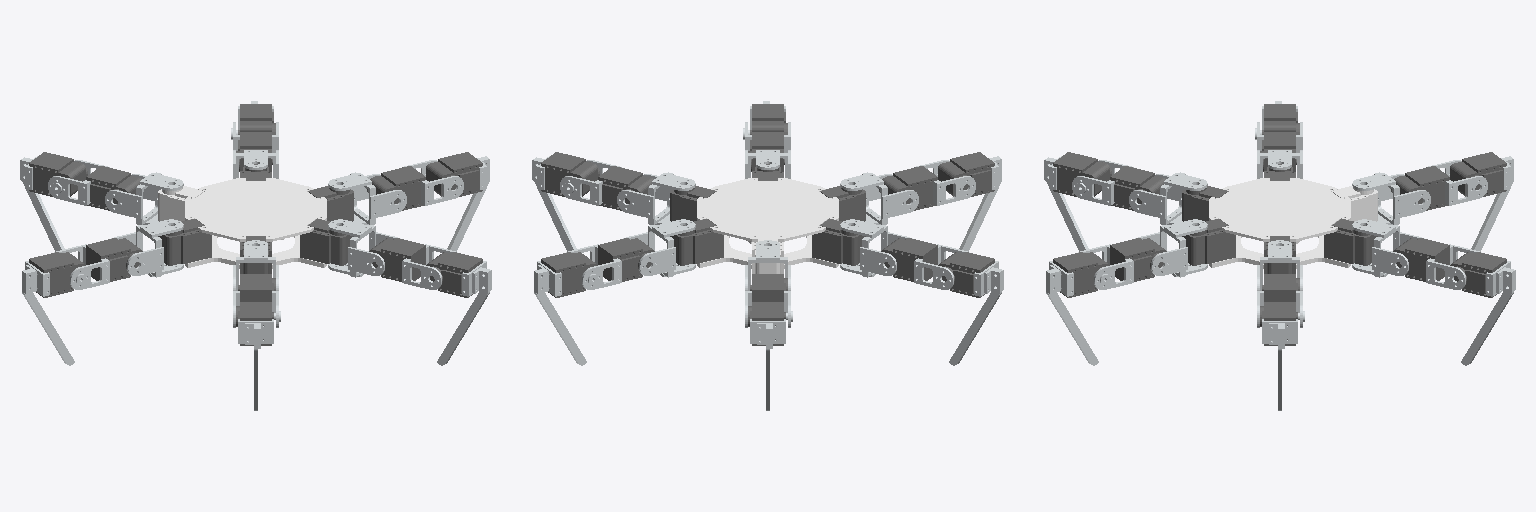
--- Facts derived from the render (not from the file) ---
Views: 3 orthographic renders of the robot side by side, from view 1: azimuth 30°, elevation 25°; view 2: azimuth 150°, elevation 25°; view 3: azimuth 270°, elevation 25°.
Robot: Hexapod — 37 links, 36 joints (18 revolute, 18 fixed); root link Hexapod_Body; default pose: every joint at zero.
Visible links, largest first — view 1: Hexapod_Body, Leg_Six_Joint_One, Leg_Two_Joint_One, Leg_Three_Joint_One, Leg_Five_Joint_One, Leg_Five_Motor_One, Leg_Three_Motor_One, Leg_Three_Foot, Leg_Five_Foot, Leg_Two_Motor_Three, Leg_Six_Motor_Three, Leg_Three_Motor_Two (+21 smaller); view 2: Hexapod_Body, Leg_Two_Joint_One, Leg_Four_Joint_One, Leg_One_Joint_One, Leg_Five_Joint_One, Leg_One_Motor_One, Leg_Five_Motor_One, Leg_Five_Foot, Leg_One_Foot, Leg_Four_Motor_Three, Leg_Two_Motor_Three, Leg_Five_Motor_Two (+21 smaller); view 3: Hexapod_Body, Leg_Four_Joint_One, Leg_Six_Joint_One, Leg_One_Joint_One, Leg_Three_Joint_One, Leg_Three_Motor_One, Leg_One_Motor_One, Leg_One_Foot, Leg_Three_Foot, Leg_Six_Motor_Three, Leg_Four_Motor_Three, Leg_One_Motor_Two (+21 smaller).
Link boxes in pixels (box(x1,y1,x2,y2)): Hexapod_Body: box(185, 178, 326, 268); Leg_Six_Joint_One: box(105, 172, 183, 224); Leg_Two_Joint_One: box(328, 172, 406, 224); Leg_Three_Joint_One: box(328, 219, 400, 277); Leg_Five_Joint_One: box(111, 219, 183, 277); Leg_Five_Motor_One: box(158, 219, 211, 265); Leg_Three_Motor_One: box(300, 219, 353, 265); Leg_Three_Foot: box(437, 261, 491, 365); Leg_Five_Foot: box(22, 261, 74, 365); Leg_Two_Motor_Three: box(426, 152, 482, 196); Leg_Six_Motor_Three: box(29, 152, 87, 196); Leg_Three_Motor_Two: box(369, 238, 425, 281); Hexapod_Body: box(697, 178, 838, 268); Leg_Two_Joint_One: box(617, 172, 695, 224); Leg_Four_Joint_One: box(840, 172, 918, 224); Leg_One_Joint_One: box(623, 219, 695, 277); Leg_Five_Joint_One: box(840, 219, 912, 277); Leg_One_Motor_One: box(670, 219, 723, 265); Leg_Five_Motor_One: box(812, 219, 865, 265); Leg_Five_Foot: box(949, 261, 1003, 365); Leg_One_Foot: box(534, 261, 586, 365); Leg_Four_Motor_Three: box(938, 152, 994, 196); Leg_Two_Motor_Three: box(541, 152, 599, 196); Leg_Five_Motor_Two: box(881, 238, 937, 281); Hexapod_Body: box(1209, 178, 1350, 268); Leg_Four_Joint_One: box(1129, 172, 1207, 224); Leg_Six_Joint_One: box(1352, 172, 1430, 224); Leg_One_Joint_One: box(1352, 219, 1424, 277); Leg_Three_Joint_One: box(1135, 219, 1207, 277); Leg_Three_Motor_One: box(1182, 219, 1235, 265); Leg_One_Motor_One: box(1324, 219, 1377, 265); Leg_One_Foot: box(1461, 261, 1515, 365); Leg_Three_Foot: box(1046, 261, 1098, 365); Leg_Six_Motor_Three: box(1450, 152, 1506, 196); Leg_Four_Motor_Three: box(1053, 152, 1111, 196); Leg_One_Motor_Two: box(1393, 238, 1449, 281).
Bounding box of the posed robot: 0.5546 × 0.4858 × 0.131 m (x, y, z).
37 mesh visuals loaded from 37 distinct referenced files (37 binary STL).

robot.urdf — Hexapod:
<?xml version="1.0" encoding="utf-8"?>
<!-- This URDF was automatically created by SolidWorks to URDF Exporter! Originally created by Stephen Brawner ([email redacted]) 
     Commit Version: 1.6.0-4-g7f85cfe  Build Version: 1.6.7995.38578
     For more information, please see http://wiki.ros.org/sw_urdf_exporter -->
<robot
  name="Hexapod">
  <link
    name="Hexapod_Body">
    <inertial>
      <origin
        xyz="0.000467300641731394 0.000480640804340723 -0.0222927088725361"
        rpy="0 0 0" />
      <mass
        value="0.252991709249718" />
      <inertia
        ixx="0.0003353228755392"
        ixy="-3.5624522231311E-06"
        ixz="9.13929498933835E-22"
        iyy="0.000331209310039199"
        iyz="-2.06880232664108E-21"
        izz="0.000662153479951832" />
    </inertial>
    <visual>
      <origin
        xyz="0 0 0"
        rpy="0 0 0" />
      <geometry>
        <mesh
          filename="package://Hexapod/meshes/Hexapod_Body.STL" />
      </geometry>
      <material
        name="a">
        <color
          rgba="1 1 1 1" />
      </material>
    </visual>
    <collision>
      <origin
        xyz="0 0 0"
        rpy="0 0 0" />
      <geometry>
        <mesh
          filename="package://Hexapod/meshes/Hexapod_Body.STL" />
      </geometry>
    </collision>
  </link>
  <link
    name="Leg_One_Motor_One">
    <inertial>
      <origin
        xyz="0.000584019854882684 0.0171270760121718 8.74251500962431E-06"
        rpy="0 0 0" />
      <mass
        value="0.0507410999571037" />
      <inertia
        ixx="8.72453812867062E-06"
        ixy="2.91404732674268E-07"
        ixz="4.76442069400232E-09"
        iyy="1.36174955983004E-05"
        iyz="4.99976360499878E-10"
        izz="1.50547493857864E-05" />
    </inertial>
    <visual>
      <origin
        xyz="0 0 0"
        rpy="0 0 0" />
      <geometry>
        <mesh
          filename="package://Hexapod/meshes/Leg_One_Motor_One.STL" />
      </geometry>
      <material
        name="b">
        <color
          rgba="0.501960784313725 0.501960784313725 0.501960784313725 1" />
      </material>
    </visual>
    <collision>
      <origin
        xyz="0 0 0"
        rpy="0 0 0" />
      <geometry>
        <mesh
          filename="package://Hexapod/meshes/Leg_One_Motor_One.STL" />
      </geometry>
    </collision>
  </link>
  <joint
    name="Body_Motor_One"
    type="fixed">
    <origin
      xyz="0.0430999999999997 0.0748245948869756 -0.035"
      rpy="1.5707963267949 0 -2.09439510239319" />
    <parent
      link="Hexapod_Body" />
    <child
      link="Leg_One_Motor_One" />
    <axis
      xyz="0 0 0" />
  </joint>
  <link
    name="Leg_One_Joint_One">
    <inertial>
      <origin
        xyz="-0.021 -0.0275000000000001 -2.77555756156289E-17"
        rpy="0 0 0" />
      <mass
        value="0.0389043786122597" />
      <inertia
        ixx="7.22067461734331E-06"
        ixy="-8.39372041984293E-23"
        ixz="-7.02883961008259E-22"
        iyy="6.08873929472342E-06"
        iyz="-1.69032215963396E-22"
        izz="7.22067461734331E-06" />
    </inertial>
    <visual>
      <origin
        xyz="0 0 0"
        rpy="0 0 0" />
      <geometry>
        <mesh
          filename="package://Hexapod/meshes/Leg_One_Joint_One.STL" />
      </geometry>
      <material
        name="c">
        <color
          rgba="0.898039215686275 0.917647058823529 0.929411764705882 1" />
      </material>
    </visual>
    <collision>
      <origin
        xyz="0 0 0"
        rpy="0 0 0" />
      <geometry>
        <mesh
          filename="package://Hexapod/meshes/Leg_One_Joint_One.STL" />
      </geometry>
    </collision>
  </link>
  <joint
    name="Motor_One_Joint_One"
    type="revolute">
    <origin
      xyz="-0.0135 0.037 0"
      rpy="3.14159265358979 0 1.5707963267949" />
    <parent
      link="Leg_One_Motor_One" />
    <child
      link="Leg_One_Joint_One" />
    <axis
      xyz="1 0 0" />
    <limit
      lower="-1.5"
      upper="1.5"
      effort="1.5"
      velocity="6" />
  </joint>
  <link
    name="Leg_One_Motor_Two">
    <inertial>
      <origin
        xyz="0.0140840198548827 -0.0198729239878282 8.74251500962431E-06"
        rpy="0 0 0" />
      <mass
        value="0.0507410999571037" />
      <inertia
        ixx="8.7245381286706E-06"
        ixy="2.91404732674267E-07"
        ixz="4.76442069400002E-09"
        iyy="1.36174955983004E-05"
        iyz="4.99976360499654E-10"
        izz="1.50547493857864E-05" />
    </inertial>
    <visual>
      <origin
        xyz="0 0 0"
        rpy="0 0 0" />
      <geometry>
        <mesh
          filename="package://Hexapod/meshes/Leg_One_Motor_Two.STL" />
      </geometry>
      <material
        name="d">
        <color
          rgba="0.501960784313725 0.501960784313725 0.501960784313725 1" />
      </material>
    </visual>
    <collision>
      <origin
        xyz="0 0 0"
        rpy="0 0 0" />
      <geometry>
        <mesh
          filename="package://Hexapod/meshes/Leg_One_Motor_Two.STL" />
      </geometry>
    </collision>
  </link>
  <joint
    name="Joint_One_Motor_One"
    type="revolute">
    <origin
      xyz="-0.021 -0.055 -0.021"
      rpy="-1.5707963267949 0 -1.5707963267949" />
    <parent
      link="Leg_One_Joint_One" />
    <child
      link="Leg_One_Motor_Two" />
    <axis
      xyz="0 -1 0" />
    <limit
      lower="-1.5"
      upper="1.5"
      effort="1.5"
      velocity="6" />
  </joint>
  <link
    name="Leg_One_Joint_Two">
    <inertial>
      <origin
        xyz="-0.0252678246613521 -0.00384428347669541 -3.60822483003176E-16"
        rpy="0 0 0" />
      <mass
        value="0.0208734115397715" />
      <inertia
        ixx="4.66379780614639E-06"
        ixy="-3.86041295515387E-22"
        ixz="-4.72913102230163E-23"
        iyy="1.08843805914059E-06"
        iyz="-1.67313754143348E-22"
        izz="3.74567124038541E-06" />
    </inertial>
    <visual>
      <origin
        xyz="0 0 0"
        rpy="0 0 0" />
      <geometry>
        <mesh
          filename="package://Hexapod/meshes/Leg_One_Joint_Two.STL" />
      </geometry>
      <material
        name="e">
        <color
          rgba="0.898039215686275 0.917647058823529 0.929411764705882 1" />
      </material>
    </visual>
    <collision>
      <origin
        xyz="0 0 0"
        rpy="0 0 0" />
      <geometry>
        <mesh
          filename="package://Hexapod/meshes/Leg_One_Joint_Two.STL" />
      </geometry>
    </collision>
  </link>
  <joint
    name="Motor_Two_Joint_One"
    type="fixed">
    <origin
      xyz="0.0505 -0.042 0"
      rpy="3.14159265358979 0 -1.5707963267949" />
    <parent
      link="Leg_One_Motor_Two" />
    <child
      link="Leg_One_Joint_Two" />
    <axis
      xyz="0 0 0" />
  </joint>
  <link
    name="Leg_One_Motor_Three">
    <inertial>
      <origin
        xyz="0.0140840198548827 -0.0198729239878282 8.74251500965206E-06"
        rpy="0 0 0" />
      <mass
        value="0.0507410999571036" />
      <inertia
        ixx="8.72453812867059E-06"
        ixy="2.91404732674268E-07"
        ixz="4.76442069399796E-09"
        iyy="1.36174955983004E-05"
        iyz="4.99976360499304E-10"
        izz="1.50547493857863E-05" />
    </inertial>
    <visual>
      <origin
        xyz="0 0 0"
        rpy="0 0 0" />
      <geometry>
        <mesh
          filename="package://Hexapod/meshes/Leg_One_Motor_Three.STL" />
      </geometry>
      <material
        name="f">
        <color
          rgba="0.501960784313725 0.501960784313725 0.501960784313725 1" />
      </material>
    </visual>
    <collision>
      <origin
        xyz="0 0 0"
        rpy="0 0 0" />
      <geometry>
        <mesh
          filename="package://Hexapod/meshes/Leg_One_Motor_Three.STL" />
      </geometry>
    </collision>
  </link>
  <joint
    name="Joint_Two_Motor_One"
    type="revolute">
    <origin
      xyz="0 -0.0175 0"
      rpy="0 0 -1.5707963267949" />
    <parent
      link="Leg_One_Joint_Two" />
    <child
      link="Leg_One_Motor_Three" />
    <axis
      xyz="0 1 0" />
    <limit
      lower="-1.5"
      upper="1.5"
      effort="1.5"
      velocity="6" />
  </joint>
  <link
    name="Leg_One_Foot">
    <inertial>
      <origin
        xyz="7.01124950652221E-05 -0.0388270396002833 0.00702654358929466"
        rpy="0 0 0" />
      <mass
        value="0.0294537667841514" />
      <inertia
        ixx="2.35841025364992E-05"
        ixy="-3.24513193999939E-21"
        ixz="-4.96335868122319E-08"
        iyy="6.39638877905909E-06"
        iyz="8.96077570377951E-06"
        izz="2.04496277534295E-05" />
    </inertial>
    <visual>
      <origin
        xyz="0 0 0"
        rpy="0 0 0" />
      <geometry>
        <mesh
          filename="package://Hexapod/meshes/Leg_One_Foot.STL" />
      </geometry>
      <material
        name="g">
        <color
          rgba="0.898039215686275 0.917647058823529 0.929411764705882 1" />
      </material>
    </visual>
    <collision>
      <origin
        xyz="0 0 0"
        rpy="0 0 0" />
      <geometry>
        <mesh
          filename="package://Hexapod/meshes/Leg_One_Foot.STL" />
      </geometry>
    </collision>
  </link>
  <joint
    name="Motor_Three_Foot_One"
    type="fixed">
    <origin
      xyz="0.0415 -0.021 -0.0125"
      rpy="-1.5708 0 1.5708" />
    <parent
      link="Leg_One_Motor_Three" />
    <child
      link="Leg_One_Foot" />
    <axis
      xyz="0 0 0" />
  </joint>
  <link
    name="Leg_Two_Motor_One">
    <inertial>
      <origin
        xyz="0.000584019854882684 0.0171270760121718 8.74251500965206E-06"
        rpy="0 0 0" />
      <mass
        value="0.0507410999571037" />
      <inertia
        ixx="8.72453812867061E-06"
        ixy="2.91404732674266E-07"
        ixz="4.76442069400188E-09"
        iyy="1.36174955983004E-05"
        iyz="4.9997636050019E-10"
        izz="1.50547493857864E-05" />
    </inertial>
    <visual>
      <origin
        xyz="0 0 0"
        rpy="0 0 0" />
      <geometry>
        <mesh
          filename="package://Hexapod/meshes/Leg_Two_Motor_One.STL" />
      </geometry>
      <material
        name="b">
        <color
          rgba="0.501960784313725 0.501960784313725 0.501960784313725 1" />
      </material>
    </visual>
    <collision>
      <origin
        xyz="0 0 0"
        rpy="0 0 0" />
      <geometry>
        <mesh
          filename="package://Hexapod/meshes/Leg_Two_Motor_One.STL" />
      </geometry>
    </collision>
  </link>
  <joint
    name="Body_Motor_Two"
    type="fixed">
    <origin
      xyz="0.08625 8.66025403784415E-05 -0.035"
      rpy="1.5707963267949 0 3.14159265358979" />
    <parent
      link="Hexapod_Body" />
    <child
      link="Leg_Two_Motor_One" />
    <axis
      xyz="0 0 0" />
  </joint>
  <link
    name="Leg_Two_Joint_One">
    <inertial>
      <origin
        xyz="-0.021 -0.0275 1.38777878078145E-17"
        rpy="0 0 0" />
      <mass
        value="0.0389043786122597" />
      <inertia
        ixx="7.2206746173433E-06"
        ixy="-1.02503950253765E-21"
        ixz="3.59151891736246E-22"
        iyy="6.08873929472342E-06"
        iyz="-1.05879118406788E-21"
        izz="7.2206746173433E-06" />
    </inertial>
    <visual>
      <origin
        xyz="0 0 0"
        rpy="0 0 0" />
      <geometry>
        <mesh
          filename="package://Hexapod/meshes/Leg_Two_Joint_One.STL" />
      </geometry>
      <material
        name="c">
        <color
          rgba="0.898039215686275 0.917647058823529 0.929411764705882 1" />
      </material>
    </visual>
    <collision>
      <origin
        xyz="0 0 0"
        rpy="0 0 0" />
      <geometry>
        <mesh
          filename="package://Hexapod/meshes/Leg_Two_Joint_One.STL" />
      </geometry>
    </collision>
  </link>
  <joint
    name="Motor_One_Joint_Two"
    type="revolute">
    <origin
      xyz="-0.0135 0.037 0"
      rpy="3.14159265358979 0 1.5707963267949" />
    <parent
      link="Leg_Two_Motor_One" />
    <child
      link="Leg_Two_Joint_One" />
    <axis
      xyz="1 0 0" />
    <limit
      lower="-1.5"
      upper="1.5"
      effort="1.5"
      velocity="6" />
  </joint>
  <link
    name="Leg_Two_Motor_Two">
    <inertial>
      <origin
        xyz="0.0140840198548827 -0.0198729239878281 8.74251500963819E-06"
        rpy="0 0 0" />
      <mass
        value="0.0507410999571037" />
      <inertia
        ixx="8.7245381286706E-06"
        ixy="2.91404732674251E-07"
        ixz="4.76442069400182E-09"
        iyy="1.36174955983004E-05"
        iyz="4.99976360499683E-10"
        izz="1.50547493857863E-05" />
    </inertial>
    <visual>
      <origin
        xyz="0 0 0"
        rpy="0 0 0" />
      <geometry>
        <mesh
          filename="package://Hexapod/meshes/Leg_Two_Motor_Two.STL" />
      </geometry>
      <material
        name="d">
        <color
          rgba="0.501960784313725 0.501960784313725 0.501960784313725 1" />
      </material>
    </visual>
    <collision>
      <origin
        xyz="0 0 0"
        rpy="0 0 0" />
      <geometry>
        <mesh
          filename="package://Hexapod/meshes/Leg_Two_Motor_Two.STL" />
      </geometry>
    </collision>
  </link>
  <joint
    name="Joint_One_Motor_Two"
    type="revolute">
    <origin
      xyz="-0.021 -0.055 -0.021"
      rpy="-1.5707963267949 0 -1.5707963267949" />
    <parent
      link="Leg_Two_Joint_One" />
    <child
      link="Leg_Two_Motor_Two" />
    <axis
      xyz="0 -1 0" />
    <limit
      lower="-1.5"
      upper="1.5"
      effort="1.5"
      velocity="6" />
  </joint>
  <link
    name="Leg_Two_Joint_Two">
    <inertial>
      <origin
        xyz="-0.016732175338648 0.00384428347669485 -2.1094237467878E-15"
        rpy="0 0 0" />
      <mass
        value="0.0208734115397716" />
      <inertia
        ixx="4.66379780614641E-06"
        ixy="-2.01170324972896E-21"
        ixz="-8.93614464730896E-22"
        iyy="1.0884380591406E-06"
        iyz="1.28970696947256E-20"
        izz="3.74567124038542E-06" />
    </inertial>
    <visual>
      <origin
        xyz="0 0 0"
        rpy="0 0 0" />
      <geometry>
        <mesh
          filename="package://Hexapod/meshes/Leg_Two_Joint_Two.STL" />
      </geometry>
      <material
        name="e">
        <color
          rgba="0.898039215686275 0.917647058823529 0.929411764705882 1" />
      </material>
    </visual>
    <collision>
      <origin
        xyz="0 0 0"
        rpy="0 0 0" />
      <geometry>
        <mesh
          filename="package://Hexapod/meshes/Leg_Two_Joint_Two.STL" />
      </geometry>
    </collision>
  </link>
  <joint
    name="Motor_Two_Joint_Two"
    type="fixed">
    <origin
      xyz="0.0505000000000004 0 0"
      rpy="-3.14159265358979 0 1.5707963267949" />
    <parent
      link="Leg_Two_Motor_Two" />
    <child
      link="Leg_Two_Joint_Two" />
    <axis
      xyz="0 0 0" />
  </joint>
  <link
    name="Leg_Two_Motor_Three">
    <inertial>
      <origin
        xyz="0.0140840198548827 -0.0198729239878282 8.74251500963819E-06"
        rpy="0 0 0" />
      <mass
        value="0.0507410999571037" />
      <inertia
        ixx="8.72453812867061E-06"
        ixy="2.91404732674272E-07"
        ixz="4.7644206939968E-09"
        iyy="1.36174955983004E-05"
        iyz="4.9997636050038E-10"
        izz="1.50547493857864E-05" />
    </inertial>
    <visual>
      <origin
        xyz="0 0 0"
        rpy="0 0 0" />
      <geometry>
        <mesh
          filename="package://Hexapod/meshes/Leg_Two_Motor_Three.STL" />
      </geometry>
      <material
        name="f">
        <color
          rgba="0.501960784313725 0.501960784313725 0.501960784313725 1" />
      </material>
    </visual>
    <collision>
      <origin
        xyz="0 0 0"
        rpy="0 0 0" />
      <geometry>
        <mesh
          filename="package://Hexapod/meshes/Leg_Two_Motor_Three.STL" />
      </geometry>
    </collision>
  </link>
  <joint
    name="Joint_Two_Motor_Two"
    type="revolute">
    <origin
      xyz="-0.0419999999999999 0.0174999999999996 0"
      rpy="0 0 1.5707963267949" />
    <parent
      link="Leg_Two_Joint_Two" />
    <child
      link="Leg_Two_Motor_Three" />
    <axis
      xyz="0 1 0" />
    <limit
      lower="-1.5"
      upper="1.5"
      effort="1.5"
      velocity="6" />
  </joint>
  <link
    name="Leg_Two_Foot">
    <inertial>
      <origin
        xyz="0.00557011249506531 -0.0148270396002834 0.00702654358929461"
        rpy="0 0 0" />
      <mass
        value="0.0294537667841514" />
      <inertia
        ixx="2.35841025364993E-05"
        ixy="2.37169225231204E-20"
        ixz="-4.96335868122461E-08"
        iyy="6.39638877905909E-06"
        iyz="8.96077570377951E-06"
        izz="2.04496277534295E-05" />
    </inertial>
    <visual>
      <origin
        xyz="0 0 0"
        rpy="0 0 0" />
      <geometry>
        <mesh
          filename="package://Hexapod/meshes/Leg_Two_Foot.STL" />
      </geometry>
      <material
        name="g">
        <color
          rgba="0.898039215686275 0.917647058823529 0.929411764705882 1" />
      </material>
    </visual>
    <collision>
      <origin
        xyz="0 0 0"
        rpy="0 0 0" />
      <geometry>
        <mesh
          filename="package://Hexapod/meshes/Leg_Two_Foot.STL" />
      </geometry>
    </collision>
  </link>
  <joint
    name="Motor_Three_Foot_Two"
    type="fixed">
    <origin
      xyz="0.0415 -0.0265 0.0115"
      rpy="-1.5708 0 1.5708" />
    <parent
      link="Leg_Two_Motor_Three" />
    <child
      link="Leg_Two_Foot" />
    <axis
      xyz="0 0 0" />
  </joint>
  <link
    name="Leg_Three_Motor_One">
    <inertial>
      <origin
        xyz="0.000584019854882684 0.0171270760121718 8.74251500963819E-06"
        rpy="0 0 0" />
      <mass
        value="0.0507410999571037" />
      <inertia
        ixx="8.7245381286706E-06"
        ixy="2.91404732674265E-07"
        ixz="4.76442069399277E-09"
        iyy="1.36174955983004E-05"
        iyz="4.9997636050019E-10"
        izz="1.50547493857863E-05" />
    </inertial>
    <visual>
      <origin
        xyz="0 0 0"
        rpy="0 0 0" />
      <geometry>
        <mesh
          filename="package://Hexapod/meshes/Leg_Three_Motor_One.STL" />
      </geometry>
      <material
        name="b">
        <color
          rgba="0.501960784313725 0.501960784313725 0.501960784313725 1" />
      </material>
    </visual>
    <collision>
      <origin
        xyz="0 0 0"
        rpy="0 0 0" />
      <geometry>
        <mesh
          filename="package://Hexapod/meshes/Leg_Three_Motor_One.STL" />
      </geometry>
    </collision>
  </link>
  <joint
    name="Body_Motor_Three"
    type="fixed">
    <origin
      xyz="0.0430999999999998 -0.0746513898062187 -0.035"
      rpy="1.5707963267949 0 2.09439510239319" />
    <parent
      link="Hexapod_Body" />
    <child
      link="Leg_Three_Motor_One" />
    <axis
      xyz="0 0 0" />
  </joint>
  <link
    name="Leg_Three_Joint_One">
    <inertial>
      <origin
        xyz="-0.021 -0.0274999999999999 1.2490009027033E-16"
        rpy="0 0 0" />
      <mass
        value="0.0389043786122597" />
      <inertia
        ixx="7.22067461734331E-06"
        ixy="1.10828261625725E-21"
        ixz="-4.62402341941E-22"
        iyy="6.08873929472343E-06"
        iyz="1.48230765769503E-21"
        izz="7.22067461734331E-06" />
    </inertial>
    <visual>
      <origin
        xyz="0 0 0"
        rpy="0 0 0" />
      <geometry>
        <mesh
          filename="package://Hexapod/meshes/Leg_Three_Joint_One.STL" />
      </geometry>
      <material
        name="c">
        <color
          rgba="0.898039215686275 0.917647058823529 0.929411764705882 1" />
      </material>
    </visual>
    <collision>
      <origin
        xyz="0 0 0"
        rpy="0 0 0" />
      <geometry>
        <mesh
          filename="package://Hexapod/meshes/Leg_Three_Joint_One.STL" />
      </geometry>
    </collision>
  </link>
  <joint
    name="Motor_One_Joint_Three"
    type="revolute">
    <origin
      xyz="-0.0135 0.037 0"
      rpy="3.14159265358979 0 1.5707963267949" />
    <parent
      link="Leg_Three_Motor_One" />
    <child
      link="Leg_Three_Joint_One" />
    <axis
      xyz="1 0 0" />
    <limit
      lower="-1.5"
      upper="1.5"
      effort="1.5"
      velocity="6" />
  </joint>
  <link
    name="Leg_Three_Motor_Two">
    <inertial>
      <origin
        xyz="0.0140840198548827 -0.0198729239878281 8.74251500965206E-06"
        rpy="0 0 0" />
      <mass
        value="0.0507410999571037" />
      <inertia
        ixx="8.72453812867062E-06"
        ixy="2.91404732674259E-07"
        ixz="4.76442069399944E-09"
        iyy="1.36174955983004E-05"
        iyz="4.99976360500253E-10"
        izz="1.50547493857864E-05" />
    </inertial>
    <visual>
      <origin
        xyz="0 0 0"
        rpy="0 0 0" />
      <geometry>
        <mesh
          filename="package://Hexapod/meshes/Leg_Three_Motor_Two.STL" />
      </geometry>
      <material
        name="d">
        <color
          rgba="0.501960784313725 0.501960784313725 0.501960784313725 1" />
      </material>
    </visual>
    <collision>
      <origin
        xyz="0 0 0"
        rpy="0 0 0" />
      <geometry>
        <mesh
          filename="package://Hexapod/meshes/Leg_Three_Motor_Two.STL" />
      </geometry>
    </collision>
  </link>
  <joint
    name="Joint_One_Motor_Three"
    type="revolute">
    <origin
      xyz="-0.021 -0.055 -0.0209999999999999"
      rpy="-1.5707963267949 0 -1.5707963267949" />
    <parent
      link="Leg_Three_Joint_One" />
    <child
      link="Leg_Three_Motor_Two" />
    <axis
      xyz="0 -1 0" />
    <limit
      lower="-1.5"
      upper="1.5"
      effort="1.5"
      velocity="6" />
  </joint>
  <link
    name="Leg_Three_Joint_Two">
    <inertial>
      <origin
        xyz="-0.0167321753386479 0.00384428347669552 1.38777878078145E-17"
        rpy="0 0 0" />
      <mass
        value="0.0208734115397715" />
      <inertia
        ixx="4.66379780614638E-06"
        ixy="4.12928561786471E-21"
        ixz="3.19034291935014E-22"
        iyy="1.08843805914059E-06"
        iyz="-2.95519551277004E-21"
        izz="3.7456712403854E-06" />
    </inertial>
    <visual>
      <origin
        xyz="0 0 0"
        rpy="0 0 0" />
      <geometry>
        <mesh
          filename="package://Hexapod/meshes/Leg_Three_Joint_Two.STL" />
      </geometry>
      <material
        name="e">
        <color
          rgba="0.898039215686275 0.917647058823529 0.929411764705882 1" />
      </material>
    </visual>
    <collision>
      <origin
        xyz="0 0 0"
        rpy="0 0 0" />
      <geometry>
        <mesh
          filename="package://Hexapod/meshes/Leg_Three_Joint_Two.STL" />
      </geometry>
    </collision>
  </link>
  <joint
    name="Motor_Two_Joint_Three"
    type="fixed">
    <origin
      xyz="0.0505 0 0"
      rpy="3.14159265358979 0 1.5707963267949" />
    <parent
      link="Leg_Three_Motor_Two" />
    <child
      link="Leg_Three_Joint_Two" />
    <axis
      xyz="0 0 0" />
  </joint>
  <link
    name="Leg_Three_Motor_Three">
    <inertial>
      <origin
        xyz="0.0140840198548827 -0.0198729239878282 8.74251500962431E-06"
        rpy="0 0 0" />
      <mass
        value="0.0507410999571037" />
      <inertia
        ixx="8.7245381286706E-06"
        ixy="2.91404732674273E-07"
        ixz="4.76442069399899E-09"
        iyy="1.36174955983004E-05"
        iyz="4.99976360498285E-10"
        izz="1.50547493857863E-05" />
    </inertial>
    <visual>
      <origin
        xyz="0 0 0"
        rpy="0 0 0" />
      <geometry>
        <mesh
          filename="package://Hexapod/meshes/Leg_Three_Motor_Three.STL" />
      </geometry>
      <material
        name="f">
        <color
          rgba="0.501960784313725 0.501960784313725 0.501960784313725 1" />
      </material>
    </visual>
    <collision>
      <origin
        xyz="0 0 0"
        rpy="0 0 0" />
      <geometry>
        <mesh
          filename="package://Hexapod/meshes/Leg_Three_Motor_Three.STL" />
      </geometry>
    </collision>
  </link>
  <joint
    name="Joint_Two_Motor_Three"
    type="revolute">
    <origin
      xyz="-0.042 0.0175000000000001 0"
      rpy="0 0 1.5707963267949" />
    <parent
      link="Leg_Three_Joint_Two" />
    <child
      link="Leg_Three_Motor_Three" />
    <axis
      xyz="0 1 0" />
    <limit
      lower="-1.5"
      upper="1.5"
      effort="1.5"
      velocity="6" />
  </joint>
  <link
    name="Leg_Three_Foot">
    <inertial>
      <origin
        xyz="7.0112E-05 0.038827 -0.0070265"
        rpy="0 0 0" />
      <mass
        value="0.029454" />
      <inertia
        ixx="2.3584E-05"
        ixy="-1.5247E-20"
        ixz="4.9634E-08"
        iyy="6.3964E-06"
        iyz="8.9608E-06"
        izz="2.045E-05" />
    </inertial>
    <visual>
      <origin
        xyz="0 0 0"
        rpy="0 0 0" />
      <geometry>
        <mesh
          filename="package://Hexapod/meshes/Leg_Three_Foot.STL" />
      </geometry>
      <material
        name="g">
        <color
          rgba="0.89804 0.91765 0.92941 1" />
      </material>
    </visual>
    <collision>
      <origin
        xyz="0 0 0"
        rpy="0 0 0" />
      <geometry>
        <mesh
          filename="package://Hexapod/meshes/Leg_Three_Foot.STL" />
      </geometry>
    </collision>
  </link>
  <joint
    name="Motor_Three_Foot_Three"
    type="fixed">
    <origin
      xyz="0.0415 -0.021 -0.0125"
      rpy="1.5708 0 1.5708" />
    <parent
      link="Leg_Three_Motor_Three" />
    <child
      link="Leg_Three_Foot" />
    <axis
      xyz="0 0 0" />
  </joint>
  <link
    name="Leg_Four_Motor_One">
    <inertial>
      <origin
        xyz="0.000584019854882694 0.0171270760121718 8.74251500965206E-06"
        rpy="0 0 0" />
      <mass
        value="0.0507410999571037" />
      <inertia
        ixx="8.72453812867061E-06"
        ixy="2.91404732674264E-07"
        ixz="4.76442069399891E-09"
        iyy="1.36174955983004E-05"
        iyz="4.99976360500343E-10"
        izz="1.50547493857864E-05" />
    </inertial>
    <visual>
      <origin
        xyz="0 0 0"
        rpy="0 0 0" />
      <geometry>
        <mesh
          filename="package://Hexapod/meshes/Leg_Four_Motor_One.STL" />
      </geometry>
      <material
        name="b">
        <color
          rgba="0.501960784313725 0.501960784313725 0.501960784313725 1" />
      </material>
    </visual>
    <collision>
      <origin
        xyz="0 0 0"
        rpy="0 0 0" />
      <geometry>
        <mesh
          filename="package://Hexapod/meshes/Leg_Four_Motor_One.STL" />
      </geometry>
    </collision>
  </link>
  <joint
    name="Body_Motor_Four"
    type="fixed">
    <origin
      xyz="-0.0432 -0.074651 -0.035"
      rpy="1.5708 0 1.0472" />
    <parent
      link="Hexapod_Body" />
    <child
      link="Leg_Four_Motor_One" />
    <axis
      xyz="0 0 0" />
  </joint>
  <link
    name="Leg_Four_Joint_One">
    <inertial>
      <origin
        xyz="-0.021 -0.0275 5.55111512312578E-17"
        rpy="0 0 0" />
      <mass
        value="0.0389043786122597" />
      <inertia
        ixx="7.2206746173433E-06"
        ixy="-4.67620538149658E-22"
        ixz="-2.04987134371332E-22"
        iyy="6.0887392947234E-06"
        iyz="2.04671557842792E-22"
        izz="7.2206746173433E-06" />
    </inertial>
    <visual>
      <origin
        xyz="0 0 0"
        rpy="0 0 0" />
      <geometry>
        <mesh
          filename="package://Hexapod/meshes/Leg_Four_Joint_One.STL" />
      </geometry>
      <material
        name="c">
        <color
          rgba="0.898039215686275 0.917647058823529 0.929411764705882 1" />
      </material>
    </visual>
    <collision>
      <origin
        xyz="0 0 0"
        rpy="0 0 0" />
      <geometry>
        <mesh
          filename="package://Hexapod/meshes/Leg_Four_Joint_One.STL" />
      </geometry>
    </collision>
  </link>
  <joint
    name="Motor_One_Joint_Four"
    type="revolute">
    <origin
      xyz="-0.0135 0.037 0"
      rpy="3.1416 0 1.5708" />
    <parent
      link="Leg_Four_Motor_One" />
    <child
      link="Leg_Four_Joint_One" />
    <axis
      xyz="1 0 0" />
    <limit
      lower="-1.5"
      upper="1.5"
      effort="1.5"
      velocity="6" />
  </joint>
  <link
    name="Leg_Four_Motor_Two">
    <inertial>
      <origin
        xyz="0.0140840198548827 -0.0198729239878282 8.74251500965206E-06"
        rpy="0 0 0" />
      <mass
        value="0.0507410999571037" />
      <inertia
        ixx="8.72453812867061E-06"
        ixy="2.91404732674264E-07"
        ixz="4.76442069400053E-09"
        iyy="1.36174955983004E-05"
        iyz="4.9997636049962E-10"
        izz="1.50547493857864E-05" />
    </inertial>
    <visual>
      <origin
        xyz="0 0 0"
        rpy="0 0 0" />
      <geometry>
        <mesh
          filename="package://Hexapod/meshes/Leg_Four_Motor_Two.STL" />
      </geometry>
      <material
        name="d">
        <color
          rgba="0.501960784313725 0.501960784313725 0.501960784313725 1" />
      </material>
    </visual>
    <collision>
      <origin
        xyz="0 0 0"
        rpy="0 0 0" />
      <geometry>
        <mesh
          filename="package://Hexapod/meshes/Leg_Four_Motor_Two.STL" />
      </geometry>
    </collision>
  </link>
  <joint
    name="Joint_One_Motor_Four"
    type="revolute">
    <origin
      xyz="-0.021 -0.055 -0.021"
      rpy="-1.5708 0 -1.5708" />
    <parent
      link="Leg_Four_Joint_One" />
    <child
      link="Leg_Four_Motor_Two" />
    <axis
      xyz="0 -1 0" />
    <limit
      lower="-1.5"
      upper="1.5"
      effort="1.5"
      velocity="6" />
  </joint>
  <link
    name="Leg_Four_Joint_Two">
    <inertial>
      <origin
        xyz="-0.0167321753386479 0.00384428347669546 -2.77555756156289E-17"
        rpy="0 0 0" />
      <mass
        value="0.0208734115397715" />
      <inertia
        ixx="4.6637978061464E-06"
        ixy="-1.13132493400947E-21"
        ixz="-1.2362970713267E-22"
        iyy="1.08843805914059E-06"
        iyz="1.84112247516701E-21"
        izz="3.74567124038541E-06" />
    </inertial>
    <visual>
      <origin
        xyz="0 0 0"
        rpy="0 0 0" />
      <geometry>
        <mesh
          filename="package://Hexapod/meshes/Leg_Four_Joint_Two.STL" />
      </geometry>
      <material
        name="e">
        <color
          rgba="0.898039215686275 0.917647058823529 0.929411764705882 1" />
      </material>
    </visual>
    <collision>
      <origin
        xyz="0 0 0"
        rpy="0 0 0" />
      <geometry>
        <mesh
          filename="package://Hexapod/meshes/Leg_Four_Joint_Two.STL" />
      </geometry>
    </collision>
  </link>
  <joint
    name="Motor_Two_Joint_Four"
    type="fixed">
    <origin
      xyz="0.0505 0 0"
      rpy="3.1416 0 1.5708" />
    <parent
      link="Leg_Four_Motor_Two" />
    <child
      link="Leg_Four_Joint_Two" />
    <axis
      xyz="0 0 0" />
  </joint>
  <link
    name="Leg_Four_Motor_Three">
    <inertial>
      <origin
        xyz="0.0140840198548827 -0.0198729239878282 8.74251500962431E-06"
        rpy="0 0 0" />
      <mass
        value="0.0507410999571037" />
      <inertia
        ixx="8.7245381286706E-06"
        ixy="2.91404732674265E-07"
        ixz="4.76442069399781E-09"
        iyy="1.36174955983004E-05"
        iyz="4.99976360501757E-10"
        izz="1.50547493857864E-05" />
    </inertial>
    <visual>
      <origin
        xyz="0 0 0"
        rpy="0 0 0" />
      <geometry>
        <mesh
          filename="package://Hexapod/meshes/Leg_Four_Motor_Three.STL" />
      </geometry>
      <material
        name="f">
        <color
          rgba="0.501960784313725 0.501960784313725 0.501960784313725 1" />
      </material>
    </visual>
    <collision>
      <origin
        xyz="0 0 0"
        rpy="0 0 0" />
      <geometry>
        <mesh
          filename="package://Hexapod/meshes/Leg_Four_Motor_Three.STL" />
      </geometry>
    </collision>
  </link>
  <joint
    name="Joint_Two_Motor_Four"
    type="revolute">
    <origin
      xyz="-0.042 0.0175 0"
      rpy="0 0 1.5708" />
    <parent
      link="Leg_Four_Joint_Two" />
    <child
      link="Leg_Four_Motor_Three" />
    <axis
      xyz="0 1 0" />
    <limit
      lower="-1.5"
      upper="1.5"
      effort="1.5"
      velocity="6" />
  </joint>
  <link
    name="Leg_Four_Foot">
    <inertial>
      <origin
        xyz="7.0112E-05 0.038827 -0.0070265"
        rpy="0 0 0" />
      <mass
        value="0.029454" />
      <inertia
        ixx="2.3584E-05"
        ixy="-6.9798E-22"
        ixz="4.9634E-08"
        iyy="6.3964E-06"
        iyz="8.9608E-06"
        izz="2.045E-05" />
    </inertial>
    <visual>
      <origin
        xyz="0 0 0"
        rpy="0 0 0" />
      <geometry>
        <mesh
          filename="package://Hexapod/meshes/Leg_Four_Foot.STL" />
      </geometry>
      <material
        name="g">
        <color
          rgba="0.89804 0.91765 0.92941 1" />
      </material>
    </visual>
    <collision>
      <origin
        xyz="0 0 0"
        rpy="0 0 0" />
      <geometry>
        <mesh
          filename="package://Hexapod/meshes/Leg_Four_Foot.STL" />
      </geometry>
    </collision>
  </link>
  <joint
    name="Motor_Three_Foot_Four"
    type="fixed">
    <origin
      xyz="0.0415 -0.021 -0.0125"
      rpy="1.5708 0 1.5708" />
    <parent
      link="Leg_Four_Motor_Three" />
    <child
      link="Leg_Four_Foot" />
    <axis
      xyz="0 0 0" />
  </joint>
  <link
    name="Leg_Five_Motor_One">
    <inertial>
      <origin
        xyz="0.000584019854882697 0.0171270760121718 8.74251500964512E-06"
        rpy="0 0 0" />
      <mass
        value="0.0507410999571037" />
      <inertia
        ixx="8.72453812867061E-06"
        ixy="2.91404732674265E-07"
        ixz="4.76442069399912E-09"
        iyy="1.36174955983004E-05"
        iyz="4.99976360499687E-10"
        izz="1.50547493857864E-05" />
    </inertial>
    <visual>
      <origin
        xyz="0 0 0"
        rpy="0 0 0" />
      <geometry>
        <mesh
          filename="package://Hexapod/meshes/Leg_Five_Motor_One.STL" />
      </geometry>
      <material
        name="b">
        <color
          rgba="0.501960784313725 0.501960784313725 0.501960784313725 1" />
      </material>
    </visual>
    <collision>
      <origin
        xyz="0 0 0"
        rpy="0 0 0" />
      <geometry>
        <mesh
          filename="package://Hexapod/meshes/Leg_Five_Motor_One.STL" />
      </geometry>
    </collision>
  </link>
  <joint
    name="Body_Motor_Five"
    type="fixed">
    <origin
      xyz="-0.08635 8.6603E-05 -0.035"
      rpy="1.5708 0 0" />
    <parent
      link="Hexapod_Body" />
    <child
      link="Leg_Five_Motor_One" />
    <axis
      xyz="0 0 0" />
  </joint>
  <link
    name="Leg_Five_Joint_One">
    <inertial>
      <origin
        xyz="-0.021 -0.0275 0"
        rpy="0 0 0" />
      <mass
        value="0.0389043786122597" />
      <inertia
        ixx="7.2206746173433E-06"
        ixy="-1.18571260472017E-21"
        ixz="-2.57849577796333E-22"
        iyy="6.0887392947234E-06"
        iyz="6.35274710440725E-22"
        izz="7.2206746173433E-06" />
    </inertial>
    <visual>
      <origin
        xyz="0 0 0"
        rpy="0 0 0" />
      <geometry>
        <mesh
          filename="package://Hexapod/meshes/Leg_Five_Joint_One.STL" />
      </geometry>
      <material
        name="c">
        <color
          rgba="0.898039215686275 0.917647058823529 0.929411764705882 1" />
      </material>
    </visual>
    <collision>
      <origin
        xyz="0 0 0"
        rpy="0 0 0" />
      <geometry>
        <mesh
          filename="package://Hexapod/meshes/Leg_Five_Joint_One.STL" />
      </geometry>
    </collision>
  </link>
  <joint
    name="Motor_One_Joint_Five"
    type="revolute">
    <origin
      xyz="-0.0135 0.037 0"
      rpy="3.1416 0 1.5708" />
    <parent
      link="Leg_Five_Motor_One" />
    <child
      link="Leg_Five_Joint_One" />
    <axis
      xyz="1 0 0" />
    <limit
      lower="-1.5"
      upper="1.5"
      effort="1.5"
      velocity="6" />
  </joint>
  <link
    name="Leg_Five_Motor_Two">
    <inertial>
      <origin
        xyz="0.0140840198548827 -0.0198729239878282 8.74251500965206E-06"
        rpy="0 0 0" />
      <mass
        value="0.0507410999571037" />
      <inertia
        ixx="8.72453812867059E-06"
        ixy="2.91404732674268E-07"
        ixz="4.76442069399922E-09"
        iyy="1.36174955983004E-05"
        iyz="4.99976360500544E-10"
        izz="1.50547493857863E-05" />
    </inertial>
    <visual>
      <origin
        xyz="0 0 0"
        rpy="0 0 0" />
      <geometry>
        <mesh
          filename="package://Hexapod/meshes/Leg_Five_Motor_Two.STL" />
      </geometry>
      <material
        name="d">
        <color
          rgba="0.501960784313725 0.501960784313725 0.501960784313725 1" />
      </material>
    </visual>
    <collision>
      <origin
        xyz="0 0 0"
        rpy="0 0 0" />
      <geometry>
        <mesh
          filename="package://Hexapod/meshes/Leg_Five_Motor_Two.STL" />
      </geometry>
    </collision>
  </link>
  <joint
    name="Joint_One_Motor_Five"
    type="revolute">
    <origin
      xyz="-0.021 -0.055 -0.021"
      rpy="-1.5708 0 -1.5708" />
    <parent
      link="Leg_Five_Joint_One" />
    <child
      link="Leg_Five_Motor_Two" />
    <axis
      xyz="0 -1 0" />
    <limit
      lower="-1.5"
      upper="1.5"
      effort="1.5"
      velocity="6" />
  </joint>
  <link
    name="Leg_Five_Joint_Two">
    <inertial>
      <origin
        xyz="-0.0252678246613521 0.0038442834766955 -1.38777878078145E-17"
        rpy="0 0 0" />
      <mass
        value="0.0208734115397715" />
      <inertia
        ixx="4.66379780614639E-06"
        ixy="-8.470329472543E-22"
        ixz="1.35056924056985E-22"
        iyy="1.08843805914059E-06"
        iyz="8.44322036937849E-22"
        izz="3.74567124038541E-06" />
    </inertial>
    <visual>
      <origin
        xyz="0 0 0"
        rpy="0 0 0" />
      <geometry>
        <mesh
          filename="package://Hexapod/meshes/Leg_Five_Joint_Two.STL" />
      </geometry>
      <material
        name="e">
        <color
          rgba="0.898039215686275 0.917647058823529 0.929411764705882 1" />
      </material>
    </visual>
    <collision>
      <origin
        xyz="0 0 0"
        rpy="0 0 0" />
      <geometry>
        <mesh
          filename="package://Hexapod/meshes/Leg_Five_Joint_Two.STL" />
      </geometry>
    </collision>
  </link>
  <joint
    name="Motor_Two_Joint_Five"
    type="fixed">
    <origin
      xyz="0.0505 -0.042 0"
      rpy="0 0 -1.5708" />
    <parent
      link="Leg_Five_Motor_Two" />
    <child
      link="Leg_Five_Joint_Two" />
    <axis
      xyz="0 0 0" />
  </joint>
  <link
    name="Leg_Five_Motor_Three">
    <inertial>
      <origin
        xyz="0.0140840198548827 -0.0198729239878282 8.74251500963819E-06"
        rpy="0 0 0" />
      <mass
        value="0.0507410999571037" />
      <inertia
        ixx="8.72453812867061E-06"
        ixy="2.91404732674265E-07"
        ixz="4.76442069400309E-09"
        iyy="1.36174955983004E-05"
        iyz="4.999763604993E-10"
        izz="1.50547493857863E-05" />
    </inertial>
    <visual>
      <origin
        xyz="0 0 0"
        rpy="0 0 0" />
      <geometry>
        <mesh
          filename="package://Hexapod/meshes/Leg_Five_Motor_Three.STL" />
      </geometry>
      <material
        name="f">
        <color
          rgba="0.501960784313725 0.501960784313725 0.501960784313725 1" />
      </material>
    </visual>
    <collision>
      <origin
        xyz="0 0 0"
        rpy="0 0 0" />
      <geometry>
        <mesh
          filename="package://Hexapod/meshes/Leg_Five_Motor_Three.STL" />
      </geometry>
    </collision>
  </link>
  <joint
    name="Joint_Two_Motor_Five"
    type="revolute">
    <origin
      xyz="0 0.0175 0"
      rpy="3.1416 0 1.5708" />
    <parent
      link="Leg_Five_Joint_Two" />
    <child
      link="Leg_Five_Motor_Three" />
    <axis
      xyz="0 1 0" />
    <limit
      lower="-1.5"
      upper="1.5"
      effort="1.5"
      velocity="6" />
  </joint>
  <link
    name="Leg_Five_Foot">
    <inertial>
      <origin
        xyz="7.0112E-05 0.038827 -0.0070265"
        rpy="0 0 0" />
      <mass
        value="0.029454" />
      <inertia
        ixx="2.3584E-05"
        ixy="1.6941E-21"
        ixz="4.9634E-08"
        iyy="6.3964E-06"
        iyz="8.9608E-06"
        izz="2.045E-05" />
    </inertial>
    <visual>
      <origin
        xyz="0 0 0"
        rpy="0 0 0" />
      <geometry>
        <mesh
          filename="package://Hexapod/meshes/Leg_Five_Foot.STL" />
      </geometry>
      <material
        name="g">
        <color
          rgba="0.89804 0.91765 0.92941 1" />
      </material>
    </visual>
    <collision>
      <origin
        xyz="0 0 0"
        rpy="0 0 0" />
      <geometry>
        <mesh
          filename="package://Hexapod/meshes/Leg_Five_Foot.STL" />
      </geometry>
    </collision>
  </link>
  <joint
    name="Motor_Three_Foot_Five"
    type="fixed">
    <origin
      xyz="0.0415 -0.021 -0.0125"
      rpy="1.5708 0 1.5708" />
    <parent
      link="Leg_Five_Motor_Three" />
    <child
      link="Leg_Five_Foot" />
    <axis
      xyz="0 0 0" />
  </joint>
  <link
    name="Leg_Six_Motor_One">
    <inertial>
      <origin
        xyz="0 0 0"
        rpy="0 0 0" />
      <mass
        value="0" />
      <inertia
        ixx="0"
        ixy="0"
        ixz="0"
        iyy="0"
        iyz="0"
        izz="0" />
    </inertial>
    <visual>
      <origin
        xyz="0 0 0"
        rpy="0 0 0" />
      <geometry>
        <mesh
          filename="package://Hexapod/meshes/Leg_Six_Motor_One.STL" />
      </geometry>
      <material
        name="">
        <color
          rgba="1 1 1 1" />
      </material>
    </visual>
    <collision>
      <origin
        xyz="0 0 0"
        rpy="0 0 0" />
      <geometry>
        <mesh
          filename="package://Hexapod/meshes/Leg_Six_Motor_One.STL" />
      </geometry>
    </collision>
  </link>
  <joint
    name="Body_Motor_Six"
    type="fixed">
    <origin
      xyz="-0.0432 0.074825 -0.035"
      rpy="1.5708 0 -1.0472" />
    <parent
      link="Hexapod_Body" />
    <child
      link="Leg_Six_Motor_One" />
    <axis
      xyz="0 0 0" />
  </joint>
  <link
    name="Leg_Six_Joint_One">
    <inertial>
      <origin
        xyz="-0.0209999999999994 -0.0274999999999981 -3.40005801291454E-15"
        rpy="0 0 0" />
      <mass
        value="0.0389043786122597" />
      <inertia
        ixx="7.2206746173433E-06"
        ixy="-1.36178818807227E-22"
        ixz="-4.30968939911705E-22"
        iyy="6.0887392947234E-06"
        iyz="0"
        izz="7.2206746173433E-06" />
    </inertial>
    <visual>
      <origin
        xyz="0 0 0"
        rpy="0 0 0" />
      <geometry>
        <mesh
          filename="package://Hexapod/meshes/Leg_Six_Joint_One.STL" />
      </geometry>
      <material
        name="c">
        <color
          rgba="0.898039215686275 0.917647058823529 0.929411764705882 1" />
      </material>
    </visual>
    <collision>
      <origin
        xyz="0 0 0"
        rpy="0 0 0" />
      <geometry>
        <mesh
          filename="package://Hexapod/meshes/Leg_Six_Joint_One.STL" />
      </geometry>
    </collision>
  </link>
  <joint
    name="Motor_One_Joint_Six"
    type="revolute">
    <origin
      xyz="-0.0135 0.037 0"
      rpy="3.1416 0 1.5708" />
    <parent
      link="Leg_Six_Motor_One" />
    <child
      link="Leg_Six_Joint_One" />
    <axis
      xyz="1 0 0" />
    <limit
      lower="-1.5"
      upper="1.5"
      effort="1.5"
      velocity="6" />
  </joint>
  <link
    name="Leg_Six_Motor_Two">
    <inertial>
      <origin
        xyz="0.0140840198548827 -0.0198729239878282 8.74251500965206E-06"
        rpy="0 0 0" />
      <mass
        value="0.0507410999571037" />
      <inertia
        ixx="8.72453812867061E-06"
        ixy="2.91404732674266E-07"
        ixz="4.764420693999E-09"
        iyy="1.36174955983004E-05"
        iyz="4.99976360499839E-10"
        izz="1.50547493857864E-05" />
    </inertial>
    <visual>
      <origin
        xyz="0 0 0"
        rpy="0 0 0" />
      <geometry>
        <mesh
          filename="package://Hexapod/meshes/Leg_Six_Motor_Two.STL" />
      </geometry>
      <material
        name="d">
        <color
          rgba="0.501960784313725 0.501960784313725 0.501960784313725 1" />
      </material>
    </visual>
    <collision>
      <origin
        xyz="0 0 0"
        rpy="0 0 0" />
      <geometry>
        <mesh
          filename="package://Hexapod/meshes/Leg_Six_Motor_Two.STL" />
      </geometry>
    </collision>
  </link>
  <joint
    name="Joint_One_Motor_Six"
    type="revolute">
    <origin
      xyz="-0.021 -0.055 -0.021"
      rpy="-1.5708 0 -1.5708" />
    <parent
      link="Leg_Six_Joint_One" />
    <child
      link="Leg_Six_Motor_Two" />
    <axis
      xyz="0 -1 0" />
    <limit
      lower="-1.5"
      upper="1.5"
      effort="1.5"
      velocity="6" />
  </joint>
  <link
    name="Leg_Six_Joint_Two">
    <inertial>
      <origin
        xyz="-0.0252678246613521 0.00384428347669565 -1.52655665885959E-16"
        rpy="0 0 0" />
      <mass
        value="0.0208734115397715" />
      <inertia
        ixx="4.6637978061464E-06"
        ixy="-2.27640104574593E-21"
        ixz="-5.27351914991464E-22"
        iyy="1.08843805914059E-06"
        iyz="1.97004812269847E-21"
        izz="3.74567124038541E-06" />
    </inertial>
    <visual>
      <origin
        xyz="0 0 0"
        rpy="0 0 0" />
      <geometry>
        <mesh
          filename="package://Hexapod/meshes/Leg_Six_Joint_Two.STL" />
      </geometry>
      <material
        name="e">
        <color
          rgba="0.898039215686275 0.917647058823529 0.929411764705882 1" />
      </material>
    </visual>
    <collision>
      <origin
        xyz="0 0 0"
        rpy="0 0 0" />
      <geometry>
        <mesh
          filename="package://Hexapod/meshes/Leg_Six_Joint_Two.STL" />
      </geometry>
    </collision>
  </link>
  <joint
    name="Motor_Two_Joint_Six"
    type="fixed">
    <origin
      xyz="0.0505 -0.042 0"
      rpy="0 0 -1.5708" />
    <parent
      link="Leg_Six_Motor_Two" />
    <child
      link="Leg_Six_Joint_Two" />
    <axis
      xyz="0 0 0" />
  </joint>
  <link
    name="Leg_Six_Motor_Three">
    <inertial>
      <origin
        xyz="0.0140840198548827 -0.0198729239878282 8.74251500962431E-06"
        rpy="0 0 0" />
      <mass
        value="0.0507410999571036" />
      <inertia
        ixx="8.7245381286706E-06"
        ixy="2.9140473267427E-07"
        ixz="4.76442069400395E-09"
        iyy="1.36174955983004E-05"
        iyz="4.99976360499991E-10"
        izz="1.50547493857863E-05" />
    </inertial>
    <visual>
      <origin
        xyz="0 0 0"
        rpy="0 0 0" />
      <geometry>
        <mesh
          filename="package://Hexapod/meshes/Leg_Six_Motor_Three.STL" />
      </geometry>
      <material
        name="f">
        <color
          rgba="0.501960784313725 0.501960784313725 0.501960784313725 1" />
      </material>
    </visual>
    <collision>
      <origin
        xyz="0 0 0"
        rpy="0 0 0" />
      <geometry>
        <mesh
          filename="package://Hexapod/meshes/Leg_Six_Motor_Three.STL" />
      </geometry>
    </collision>
  </link>
  <joint
    name="Joint_Two_Motor_Six"
    type="revolute">
    <origin
      xyz="0 0.0175 0"
      rpy="3.1416 0 1.5708" />
    <parent
      link="Leg_Six_Joint_Two" />
    <child
      link="Leg_Six_Motor_Three" />
    <axis
      xyz="0 1 0" />
    <limit
      lower="-1.5"
      upper="1.5"
      effort="1.5"
      velocity="6" />
  </joint>
  <link
    name="Leg_Six_Foot">
    <inertial>
      <origin
        xyz="7.0112E-05 0.038827 -0.0070265"
        rpy="0 0 0" />
      <mass
        value="0.029454" />
      <inertia
        ixx="2.3584E-05"
        ixy="1.1011E-20"
        ixz="4.9634E-08"
        iyy="6.3964E-06"
        iyz="8.9608E-06"
        izz="2.045E-05" />
    </inertial>
    <visual>
      <origin
        xyz="0 0 0"
        rpy="0 0 0" />
      <geometry>
        <mesh
          filename="package://Hexapod/meshes/Leg_Six_Foot.STL" />
      </geometry>
      <material
        name="">
        <color
          rgba="0.89804 0.91765 0.92941 1" />
      </material>
    </visual>
    <collision>
      <origin
        xyz="0 0 0"
        rpy="0 0 0" />
      <geometry>
        <mesh
          filename="package://Hexapod/meshes/Leg_Six_Foot.STL" />
      </geometry>
    </collision>
  </link>
  <joint
    name="Motor_Three_Foot_Six"
    type="fixed">
    <origin
      xyz="0.0415 -0.021 -0.0125"
      rpy="1.5708 0 1.5708" />
    <parent
      link="Leg_Six_Motor_Three" />
    <child
      link="Leg_Six_Foot" />
    <axis
      xyz="0 0 0" />
  </joint>
</robot>
